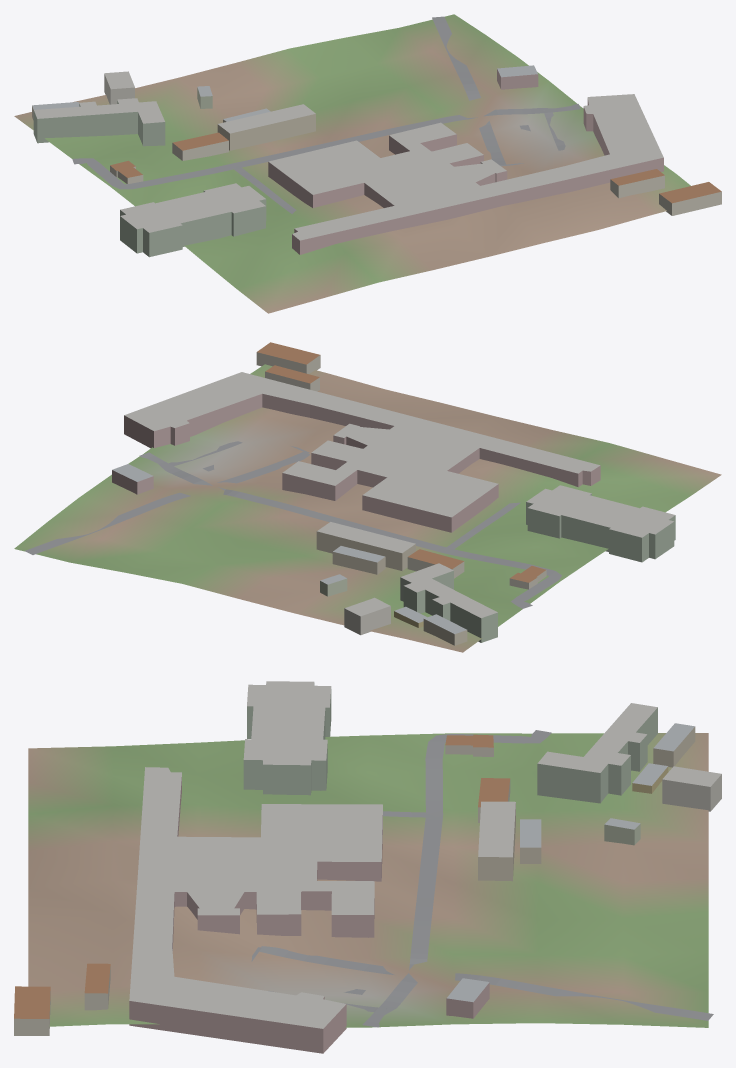
3 renders of one model, top to bottom at view 1: azimuth 30°, elevation 25°; view 2: azimuth 150°, elevation 25°; view 3: azimuth 270°, elevation 25°, orthographic. The views are drawn at different scales.
Visible parts, largest first — view 1: Lo; view 2: Lo; view 3: Lo.
Boxes of the visible parts, box(x1,y1,x2,y2) form: Lo: box(14, 14, 721, 313); Lo: box(14, 342, 721, 652); Lo: box(14, 681, 721, 1053).
Bounding box in the file's own units: 302 × 17.33 × 266.
